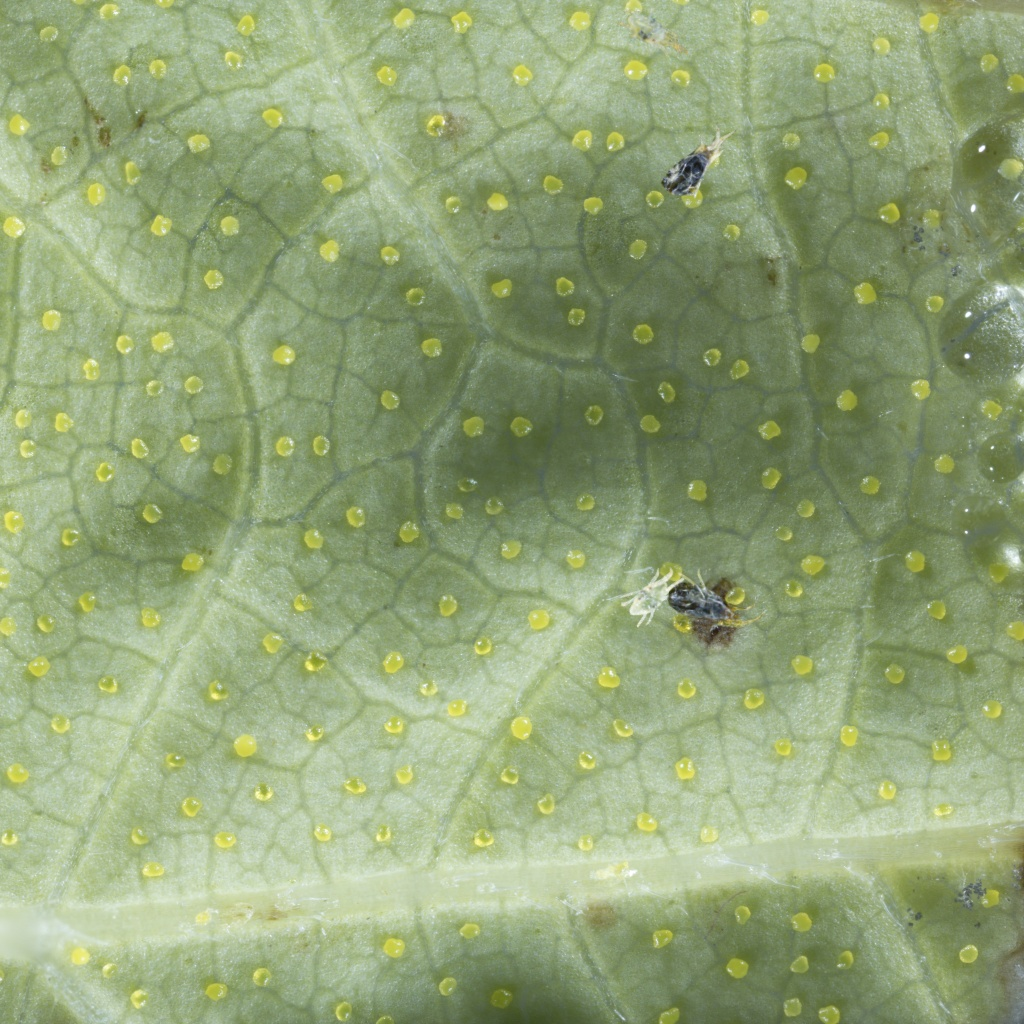Adult_male: (616, 558, 694, 631)
Dead_mite: (647, 115, 759, 210), (665, 565, 771, 632)
